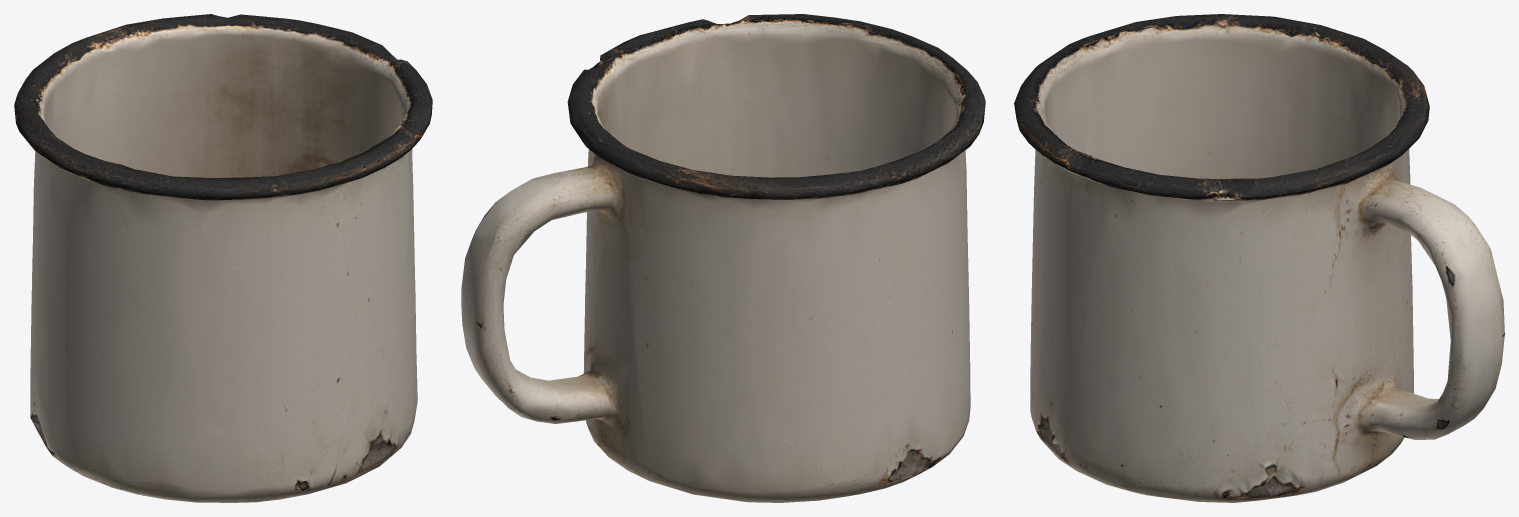
File: PROP-LIFE-MUG.glb
3 views of the same model, side by side, from view 1: azimuth 30°, elevation 25°; view 2: azimuth 150°, elevation 25°; view 3: azimuth 270°, elevation 25° (orthographic).
Visible parts, largest first — view 1: tripo_node_a509e55e-d414-42db-ba04-1c2b0a44b03b; view 2: tripo_node_a509e55e-d414-42db-ba04-1c2b0a44b03b; view 3: tripo_node_a509e55e-d414-42db-ba04-1c2b0a44b03b.
Boxes of the visible parts, x1,y1,x2,y2 form: tripo_node_a509e55e-d414-42db-ba04-1c2b0a44b03b: (14,14,432,502); tripo_node_a509e55e-d414-42db-ba04-1c2b0a44b03b: (461,14,985,502); tripo_node_a509e55e-d414-42db-ba04-1c2b0a44b03b: (1014,14,1504,502).
Size of the model in its own units: 0.8782 by 0.7429 by 1.
1 material, 1 textured.
